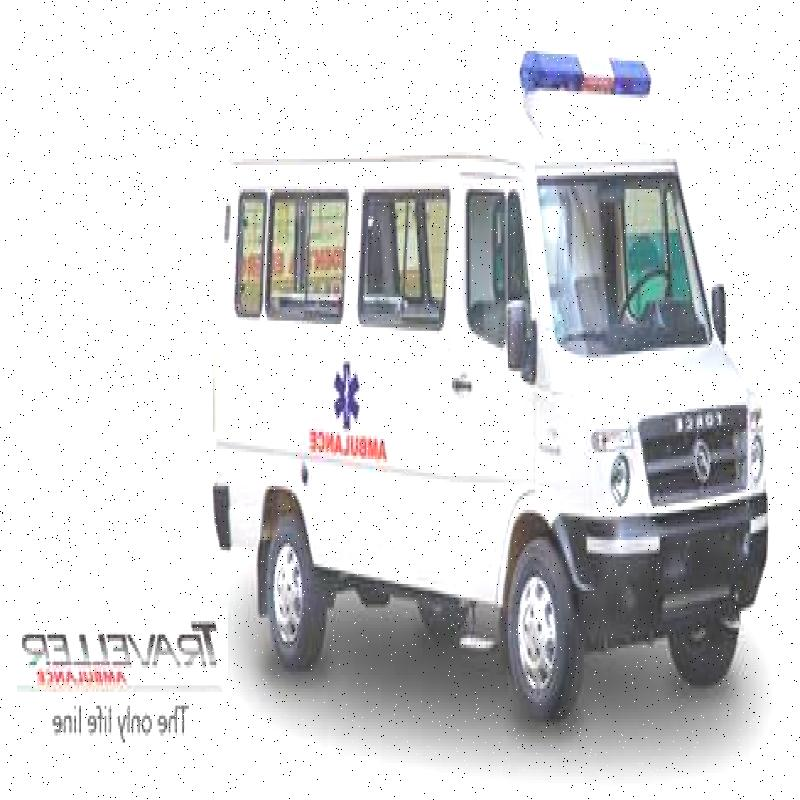AmbulanceSiren: (506, 38, 655, 130)
